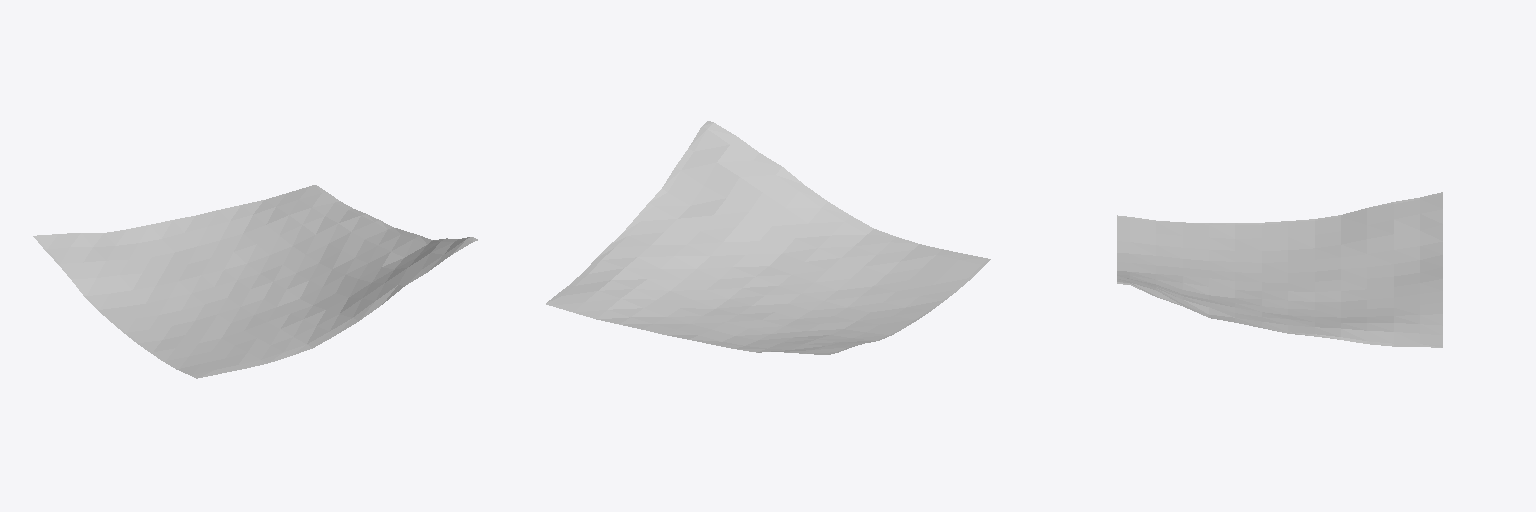
The model's file is Landscape.051.obj.
The picture shows the model from 3 angles: view 1: azimuth 30°, elevation 25°; view 2: azimuth 150°, elevation 25°; view 3: azimuth 270°, elevation 25°; orthographic projection.
Visible parts, largest first — view 1: Landscape.051; view 2: Landscape.051; view 3: Landscape.051.
Boxes of the visible parts, box(x1,y1,x2,y2) form: Landscape.051: box(33, 185, 477, 378); Landscape.051: box(546, 121, 990, 354); Landscape.051: box(1117, 192, 1442, 347).
Bounding box in the file's own units: 32 × 8.88 × 32.